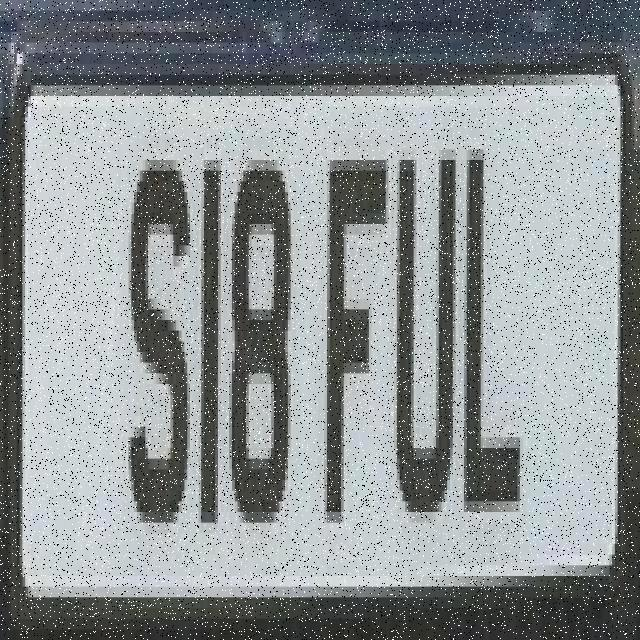licenseplate: (5, 18, 632, 640)
